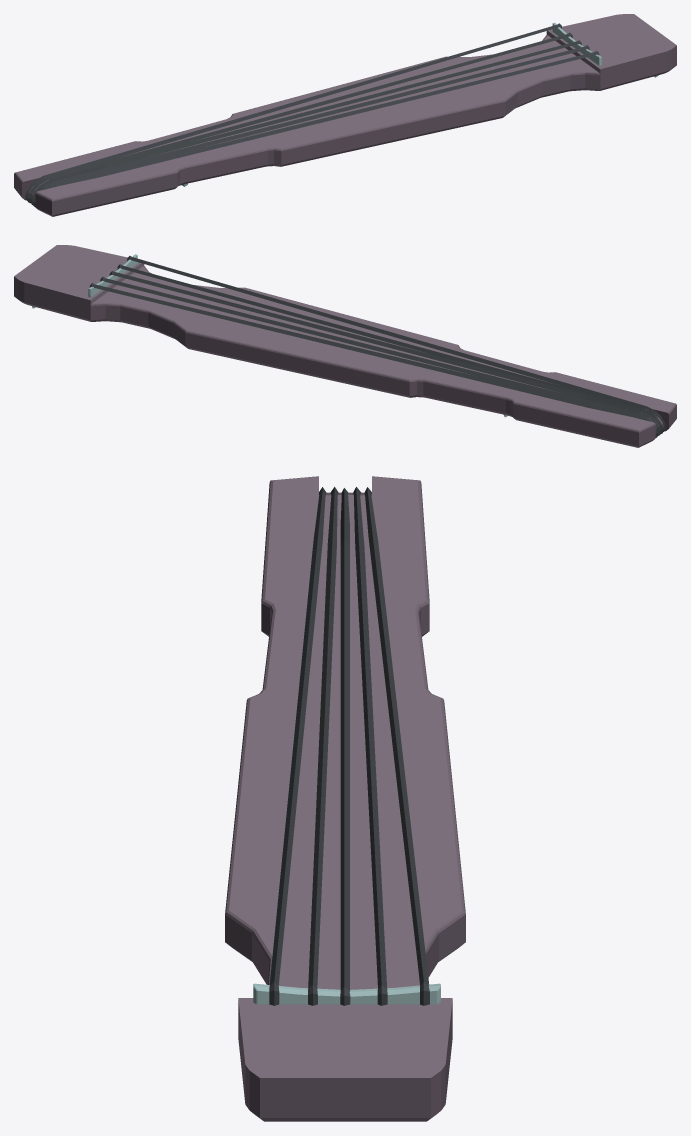
File: Guqin_Wood.fbx
3 views of the same model, one above another, from view 1: azimuth 30°, elevation 25°; view 2: azimuth 150°, elevation 25°; view 3: azimuth 270°, elevation 25° (orthographic). The views are drawn at different scales.
Visible parts, largest first — view 1: Guqin_Wood; view 2: Guqin_Wood; view 3: Guqin_Wood.
Boxes of the visible parts, x1,y1,x2,y2 form: Guqin_Wood: (14, 14, 676, 216); Guqin_Wood: (14, 245, 676, 447); Guqin_Wood: (225, 476, 465, 1121).
Size of the model in its own units: 1.2 by 0.0713 by 0.2.
1 material, 1 textured.
